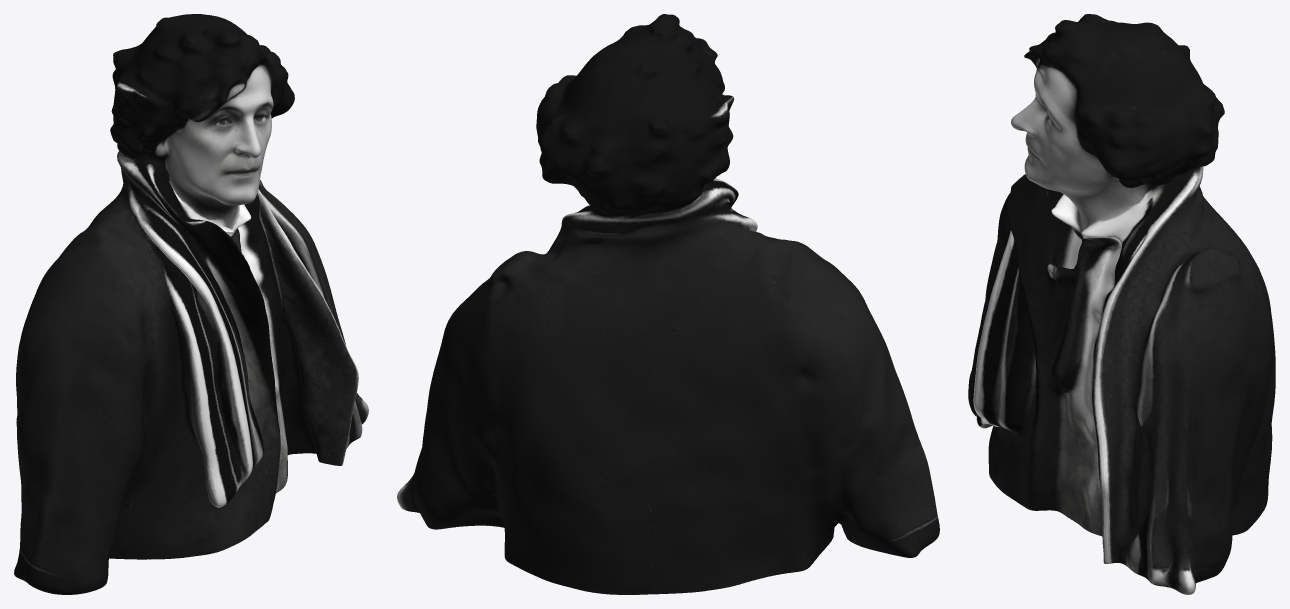
Rendered from compressed_tds_3d_image.glb.
The picture shows the model from 3 angles, left to right: view 1: azimuth 30°, elevation 25°; view 2: azimuth 150°, elevation 25°; view 3: azimuth 270°, elevation 25°; orthographic projection. The views are drawn at different scales.
Bounding box in the file's own units: 1.79 × 1.9 × 1.11.
1 material, 1 textured.
